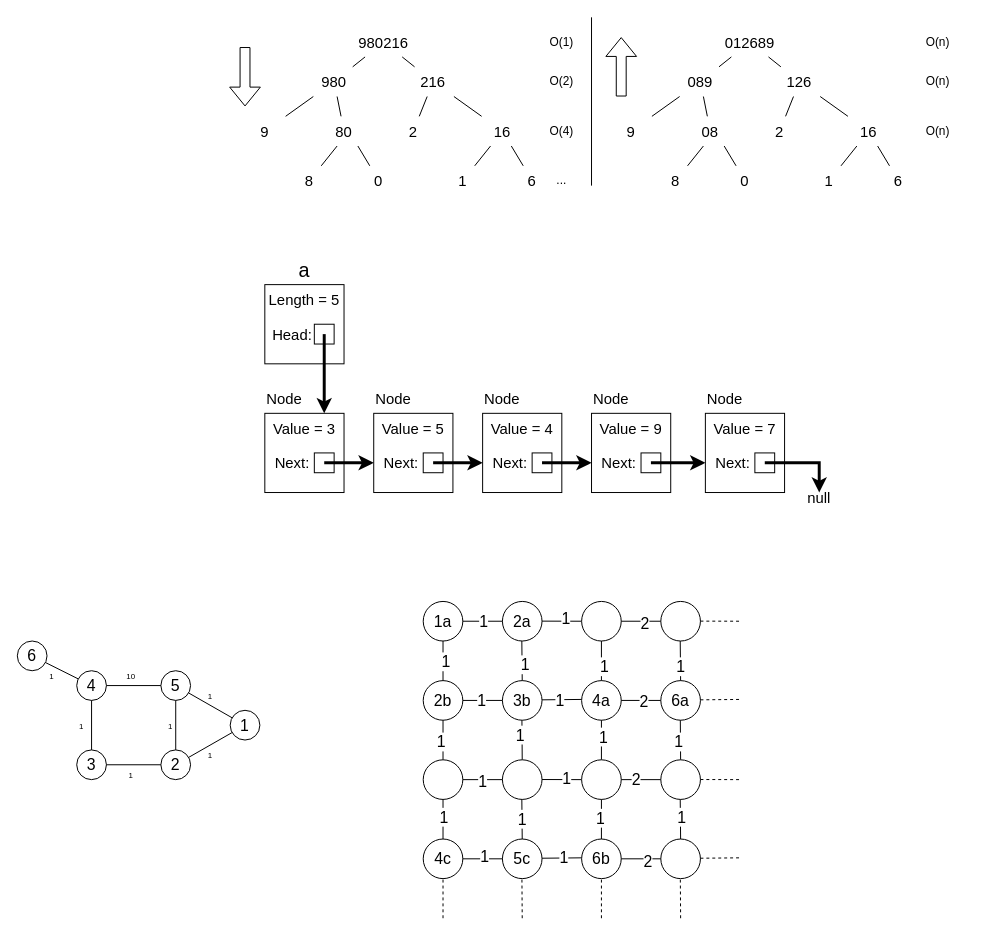
This 985x937 diagram has some shape labels left out. The shapes that lost their labels are listed below. From the top down, each one's centre as x and y in pixels, then its label:
[601,620]: 3a
[680,620]: 5a
[442,779]: 3c
[521,779]: 4b
[601,779]: 5b
[680,779]: 7a
[680,858]: 8a
